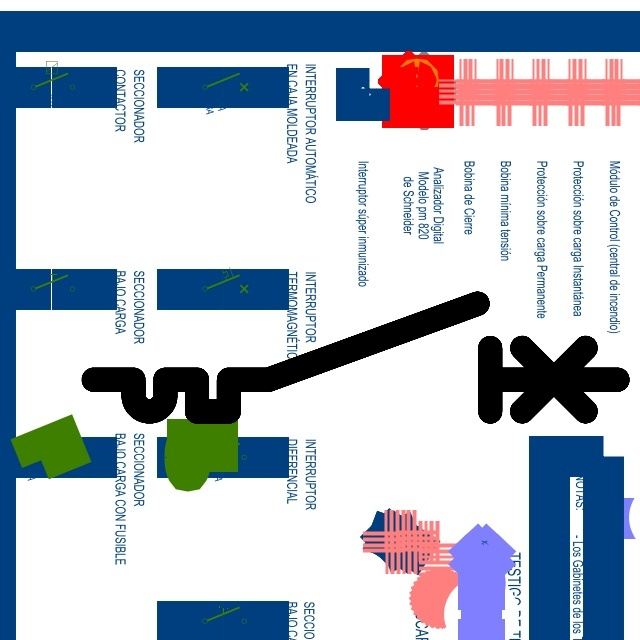interruptor_termomagnetico: (80, 290, 630, 425)
